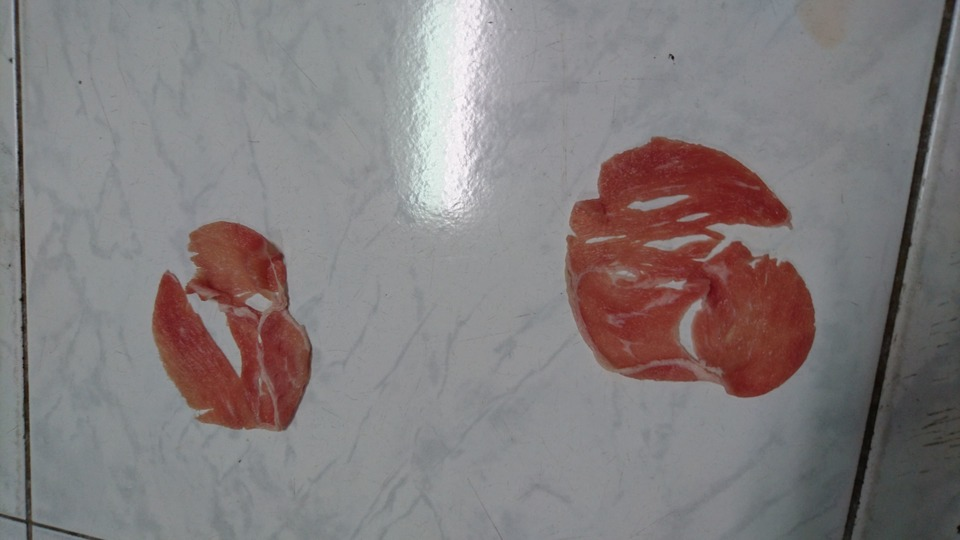restructured meat: (565, 131, 822, 404), (145, 220, 318, 440)
